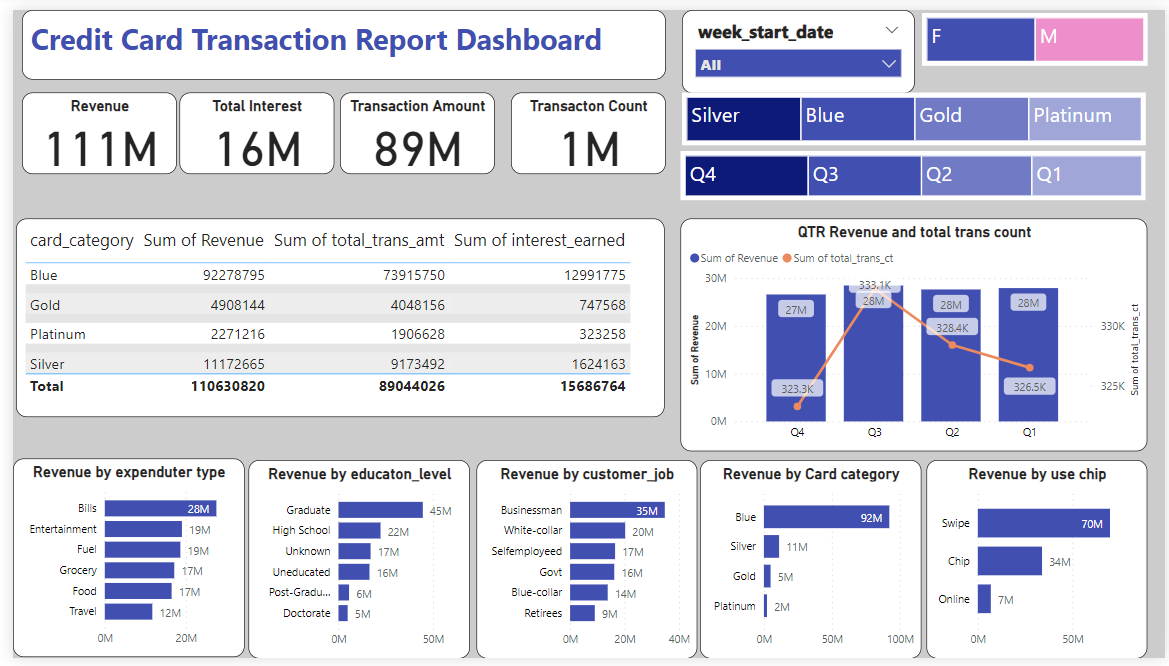

The dashboard page shown, as its layout file describes it:
{"tool":"powerbi","page":{"name":"Credit card transaction","canvas":[1280,720],"ordinal":1},"visuals":[{"type":"textbox","box":[9.4,0,715.1,77.4],"z":0},{"type":"lineStackedColumnComboChart","title":"QTR Revenue and total  trans  count","fields":{"Category":["public cc_detail.qtr"],"Y":["Sum(public cc_detail.Revenue)"],"Y2":["Sum(public cc_detail.total_trans_ct)"]},"box":[741.5,232.1,518.9,258.5],"z":1000},{"type":"barChart","title":"Revenue by expenduter type","fields":{"Y":["Sum(public cc_detail.Revenue)"],"Category":["public cc_detail.exp_type"]},"box":[0,498.1,257,220.8],"z":2000},{"type":"barChart","title":"Revenue by educaton_level","fields":{"Y":["Sum(public cc_detail.Revenue)"],"Category":["public cust_detail.education_level"]},"box":[262.3,500,246,220.8],"z":3000},{"type":"barChart","title":"Revenue by customer_job","fields":{"Y":["Sum(public cc_detail.Revenue)"],"Category":["public cust_detail.customer_job"]},"box":[515.1,500,245,220.8],"z":4000},{"type":"barChart","title":"Revenue by Card category","fields":{"Y":["Sum(public cc_detail.Revenue)"],"Category":["public cc_detail.card_category"]},"box":[764.2,500,246,220.8],"z":5000},{"type":"barChart","title":"Revenue by use chip","fields":{"Y":["Sum(public cc_detail.Revenue)"],"Category":["public cc_detail.use_chip"]},"box":[1015.1,500,245.3,220.8],"z":6000},{"type":"tableEx","fields":{"Values":["public cc_detail.card_category","Sum(public cc_detail.Revenue)","Sum(public cc_detail.total_trans_amt)","Sum(public cc_detail.interest_earned)"]},"box":[3.8,232.1,720.8,220.8],"z":7000},{"type":"card","title":"Revenue","fields":{"Values":["Sum(public cc_detail.Revenue)"]},"box":[9.4,92.5,172,90.6],"z":8000},{"type":"card","title":"Total Interest","fields":{"Values":["Sum(public cc_detail.interest_earned)"]},"box":[184.9,92.5,171.7,90.6],"z":9000},{"type":"card","title":"Transaction Amount","fields":{"Values":["Sum(public cc_detail.total_trans_amt)"]},"box":[364.2,92.5,171.7,90.6],"z":10000},{"type":"card","title":"Transacton Count","fields":{"Values":["Sum(public cc_detail.total_trans_ct)"]},"box":[552.8,92.5,171.7,90.6],"z":11000},{"type":"slicer","fields":{"Values":["public cc_detail.week_start_date"]},"box":[743.4,0,258.5,92.5],"z":12000},{"type":"treemap","fields":{"Group":["public cc_detail.qtr"],"Values":["Avg(public cc_detail.client_num)"]},"box":[741.5,156.6,517,54.7],"z":13000},{"type":"treemap","fields":{"Values":["Avg(public cc_detail.client_num)"],"Group":["public cust_detail.gender"]},"box":[1009.4,3.8,250.9,58.5],"z":14000},{"type":"treemap","fields":{"Values":["Avg(public cc_detail.client_num)"],"Group":["public cc_detail.card_category"]},"box":[743.4,92.5,515.1,58.5],"z":15000}]}

Visuals, with their boxes in screenshot pixels (x1, y1, x2, y2), scaled from the page's 1280x720 canvas onto the 1169x666 screenshot:
textbox: pyautogui.locateOnScreen(9, 0, 662, 72)
"QTR Revenue and total  trans  count" lineStackedColumnComboChart: pyautogui.locateOnScreen(677, 215, 1151, 454)
"Revenue by expenduter type" barChart: pyautogui.locateOnScreen(0, 461, 235, 665)
"Revenue by educaton_level" barChart: pyautogui.locateOnScreen(240, 462, 464, 665)
"Revenue by customer_job" barChart: pyautogui.locateOnScreen(470, 462, 694, 665)
"Revenue by Card category" barChart: pyautogui.locateOnScreen(698, 462, 923, 665)
"Revenue by use chip" barChart: pyautogui.locateOnScreen(927, 462, 1151, 665)
tableEx - public cc_detail.card_category x Sum(public cc_detail.Revenue): pyautogui.locateOnScreen(3, 215, 662, 419)
"Revenue" card: pyautogui.locateOnScreen(9, 86, 166, 169)
"Total Interest" card: pyautogui.locateOnScreen(169, 86, 326, 169)
"Transaction Amount" card: pyautogui.locateOnScreen(333, 86, 489, 169)
"Transacton Count" card: pyautogui.locateOnScreen(505, 86, 662, 169)
slicer - public cc_detail.week_start_date: pyautogui.locateOnScreen(679, 0, 915, 86)
treemap - public cc_detail.qtr x Avg(public cc_detail.client_num): pyautogui.locateOnScreen(677, 145, 1149, 195)
treemap - Avg(public cc_detail.client_num) x public cust_detail.gender: pyautogui.locateOnScreen(922, 4, 1151, 58)
treemap - Avg(public cc_detail.client_num) x public cc_detail.card_category: pyautogui.locateOnScreen(679, 86, 1149, 140)
